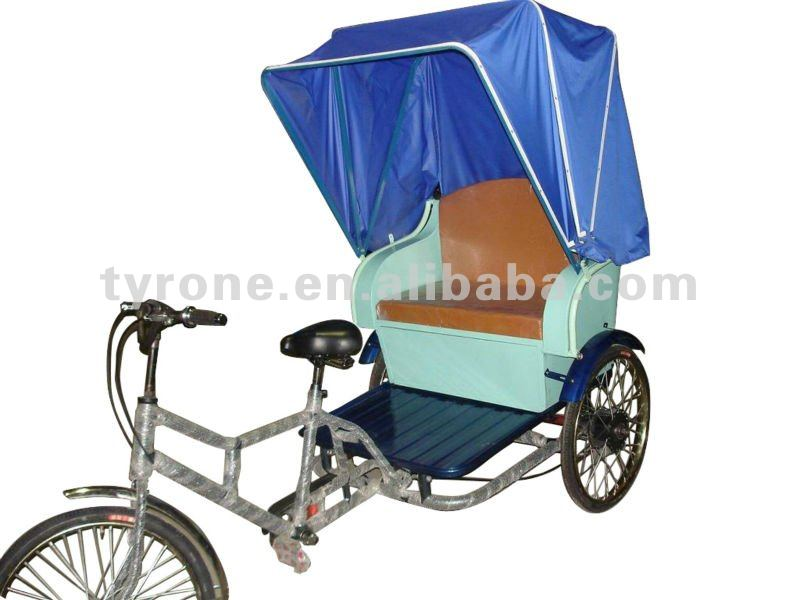Rickshaw: (20, 30, 639, 589)
